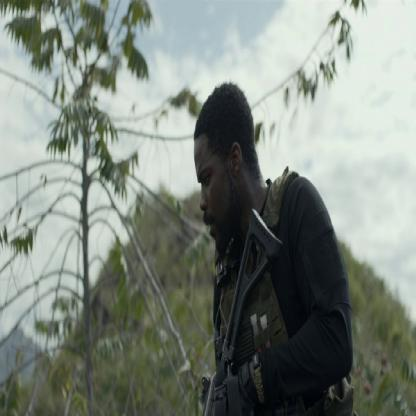Gun: (196, 205, 284, 415)
